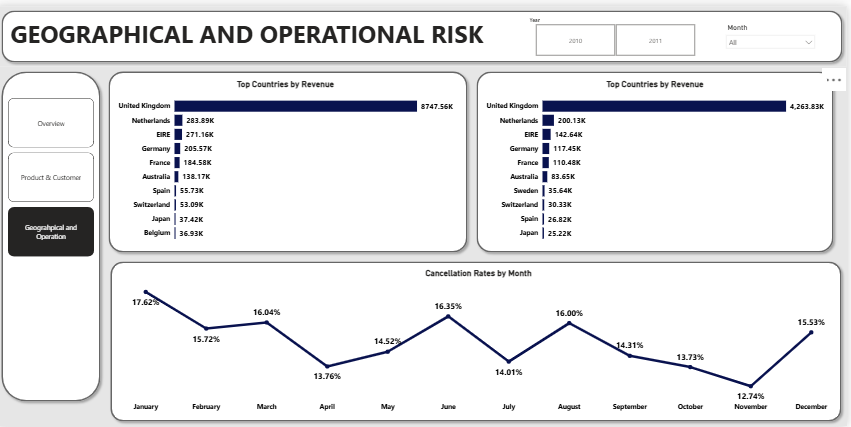

What the dashboard file says about the page in this screenshot:
{"tool":"powerbi","page":{"name":"Geograhpical and Operation","canvas":[1700,840],"ordinal":2},"visuals":[{"type":"shape","box":[218,502,1480,338],"z":0},{"type":"shape","box":[950,122,732,380],"z":1000},{"type":"shape","box":[214,122,736,380],"z":2000},{"type":"barChart","title":"Top Countries by Revenue","fields":{"Category":["Table1.Country"],"Y":["Table1.Total Revenue"]},"box":[236,146,682,336],"z":3000},{"type":"shape","box":[0,0,1700,122],"z":4000},{"type":"shape","box":[0,122,216,718],"z":5000},{"type":"barChart","title":"Top Countries by Revenue","fields":{"Category":["Table1.Country"],"Y":["Sum(Table1.Quantity)"]},"box":[972,146,688,336],"z":6000},{"type":"lineChart","title":"Cancellation Rates by Month ","fields":{"Category":["Table1.Month Name"],"Y":["Table1.Cancellation Rates"]},"box":[244,524,1438,296],"z":7000},{"type":"textbox","box":[22,16,982,88],"z":8000},{"type":"slicer","fields":{"Values":["Calendar.Month"]},"box":[1448,30,198,64],"z":10000},{"type":"pageNavigator","box":[22,168,170,482],"z":11000},{"type":"slicer","fields":{"Values":["Calendar.Year"]},"box":[1090,30,358,66],"z":11001}]}

Visuals, with their boxes in screenshot pixels (x1, y1, x2, y2), scaled from the page's 1700x840 canvas onto the 851x427 screenshot:
shape: [109, 255, 850, 426]
shape: [476, 62, 842, 255]
shape: [107, 62, 476, 255]
"Top Countries by Revenue" barChart: [118, 74, 460, 245]
shape: [0, 0, 850, 62]
shape: [0, 62, 108, 426]
"Top Countries by Revenue" barChart: [487, 74, 831, 245]
"Cancellation Rates by Month " lineChart: [122, 266, 842, 417]
textbox: [11, 8, 503, 53]
slicer - Calendar.Month: [725, 15, 824, 48]
pageNavigator: [11, 85, 96, 330]
slicer - Calendar.Year: [546, 15, 725, 49]
